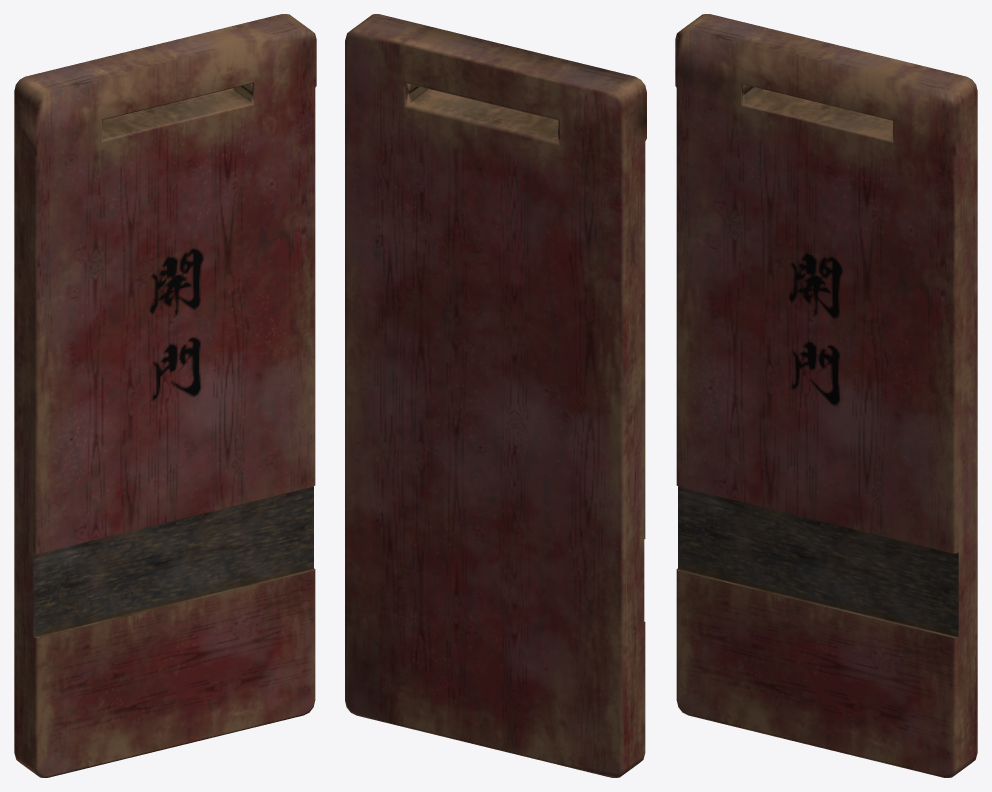
File: token.glb
The picture shows the model from 3 angles, left to right: view 1: azimuth 30°, elevation 25°; view 2: azimuth 150°, elevation 25°; view 3: azimuth 330°, elevation 25°; orthographic projection.
Visible parts, largest first — view 1: new_token (×2); view 2: new_token; view 3: new_token (×2).
Part boxes in pixels (x1,y1,x2,y2): new_token (×2): (14, 14, 316, 777); new_token: (345, 14, 646, 777); new_token (×2): (675, 14, 977, 777).
Size of the model in its own units: 0.3368 by 0.7884 by 0.0485.
2 materials, 2 textured.
